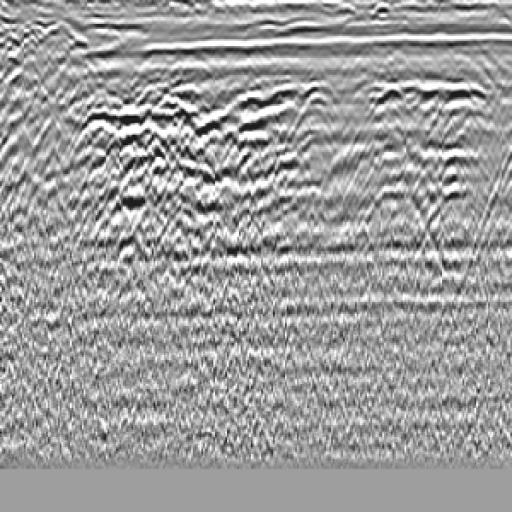metalic: (361, 67, 421, 131)
